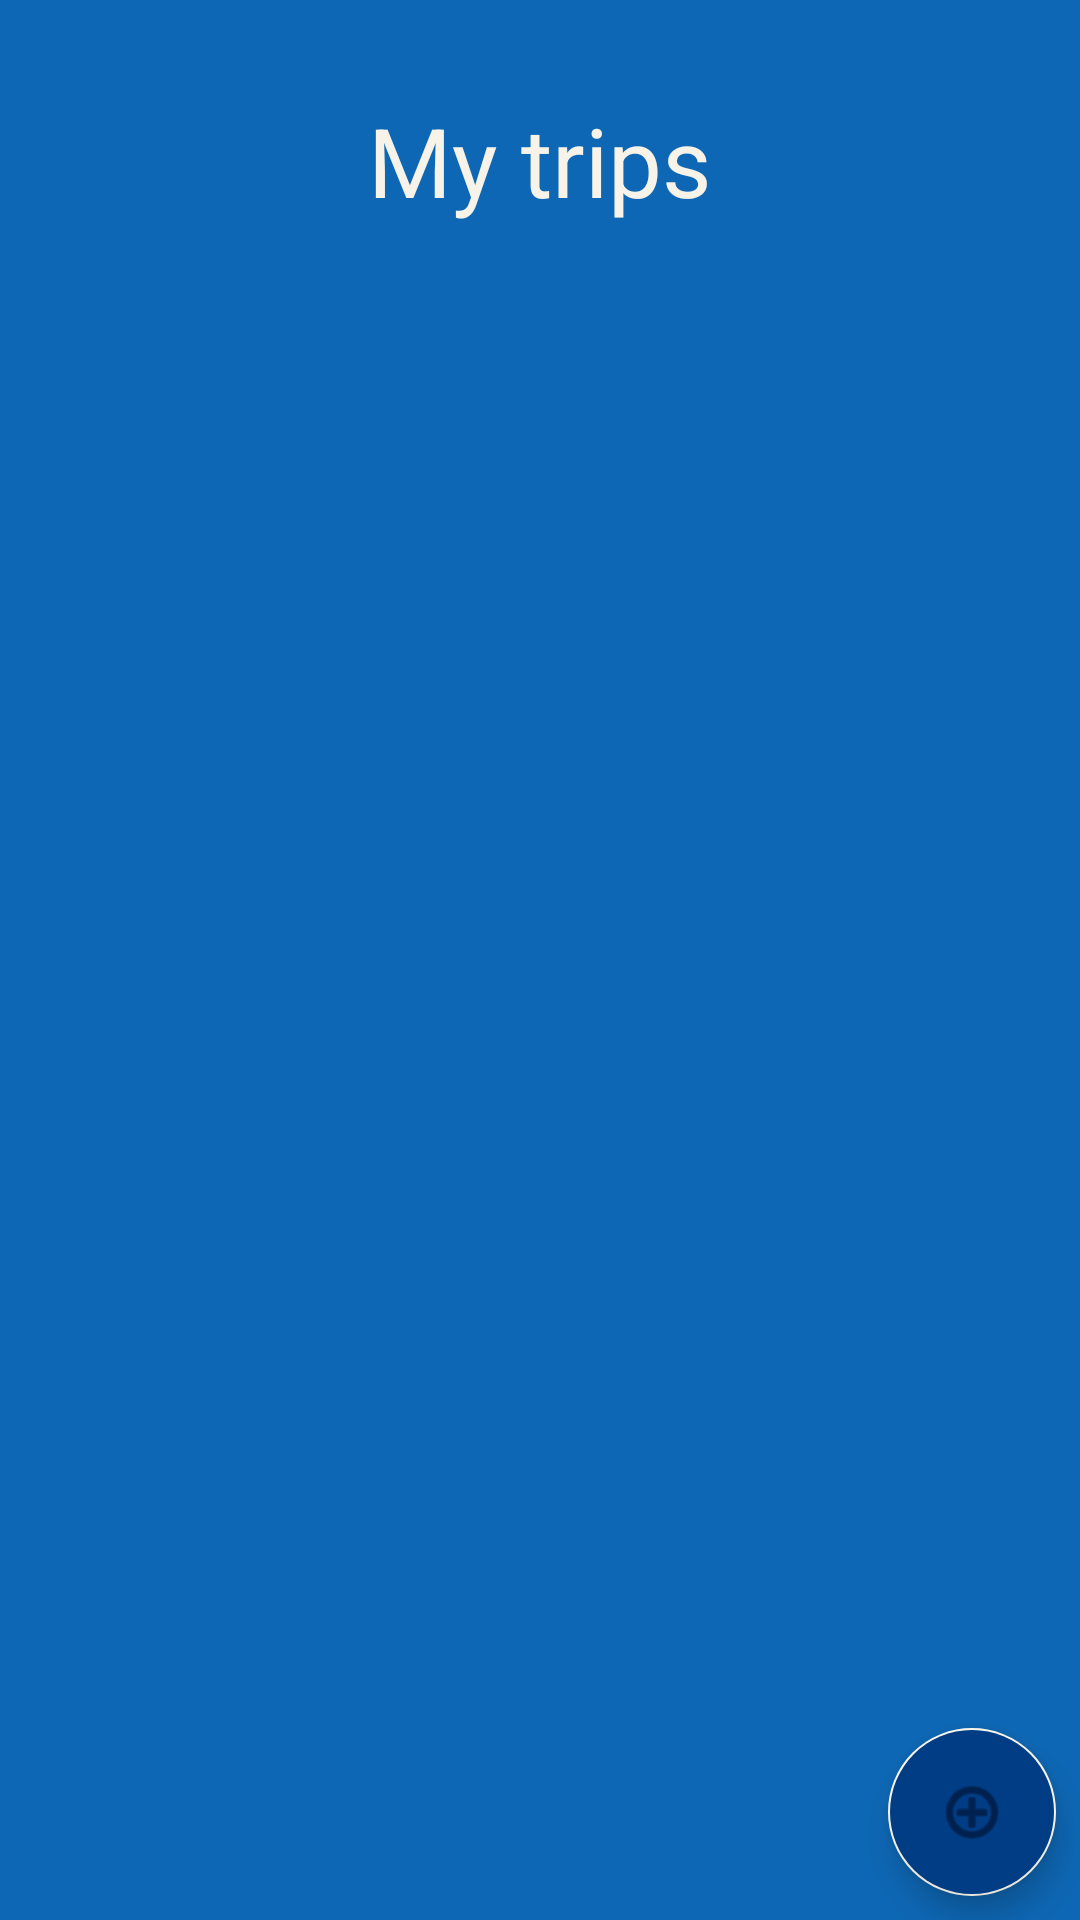

Screen size 1080 x 1920. Icon name, then its center in pixels as [x,y]:
add trip: [972,1812]
